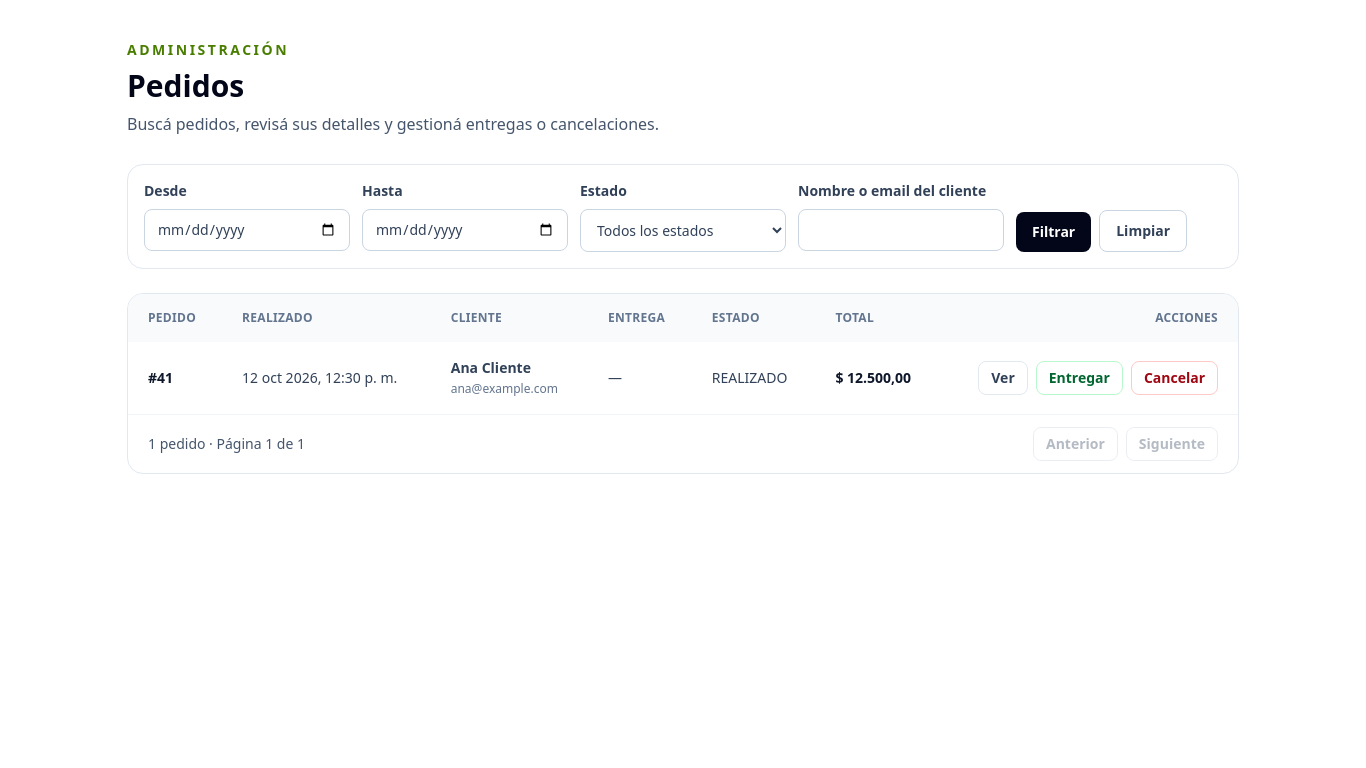
it: consulta y gestión de pedidos › no presenta fecha de entrega en el detalle porque la API no la expone
Click the button "Ver".
click(1003, 378)  # box [978,361,1028,395]
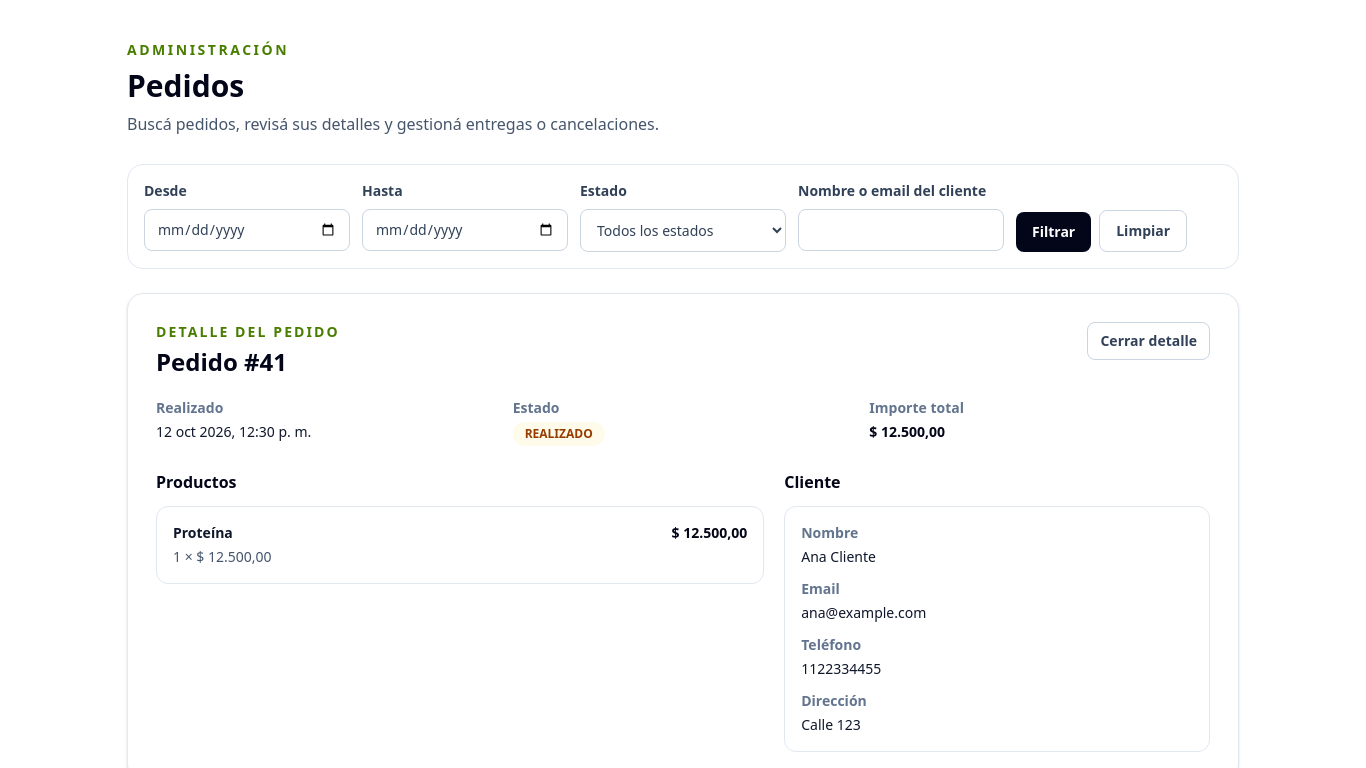
Result: the text "Realizado" is shown at [156,398,223,417]
Result: the text "Importe total" is shown at [869,398,964,417]
